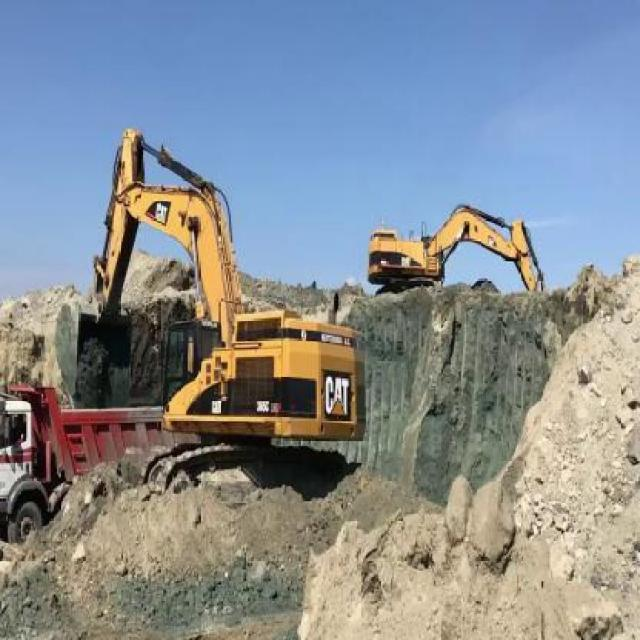Dump Truck: (4, 384, 162, 544)
Excavator: (50, 110, 365, 484), (369, 182, 546, 316)
